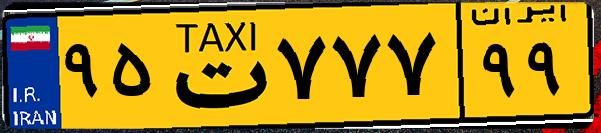5: (110, 28, 158, 98)
7: (270, 28, 330, 110), (385, 28, 445, 110), (330, 28, 385, 110)
9: (57, 26, 110, 100), (475, 38, 525, 113), (525, 38, 570, 115)
ت: (158, 12, 270, 120)
